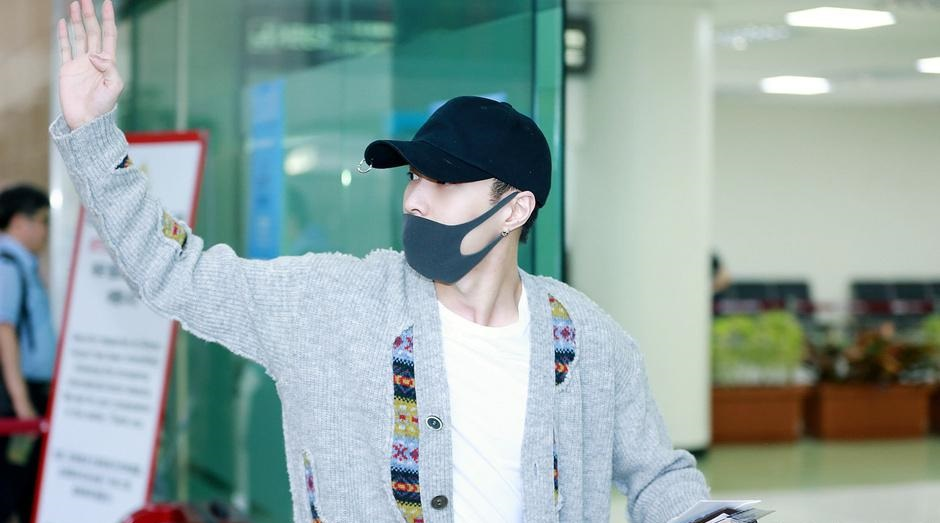face_mask: (399, 168, 489, 286)
